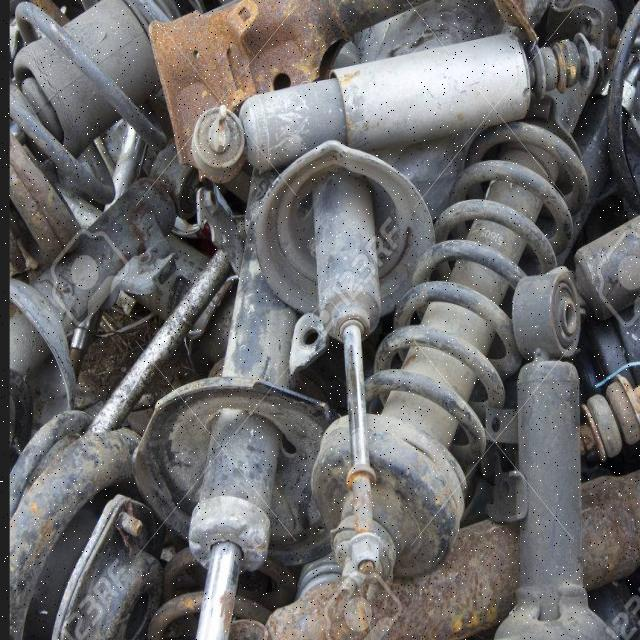shock absorber: (310, 83, 593, 601), (189, 165, 315, 638), (192, 32, 602, 177), (311, 171, 383, 575)
